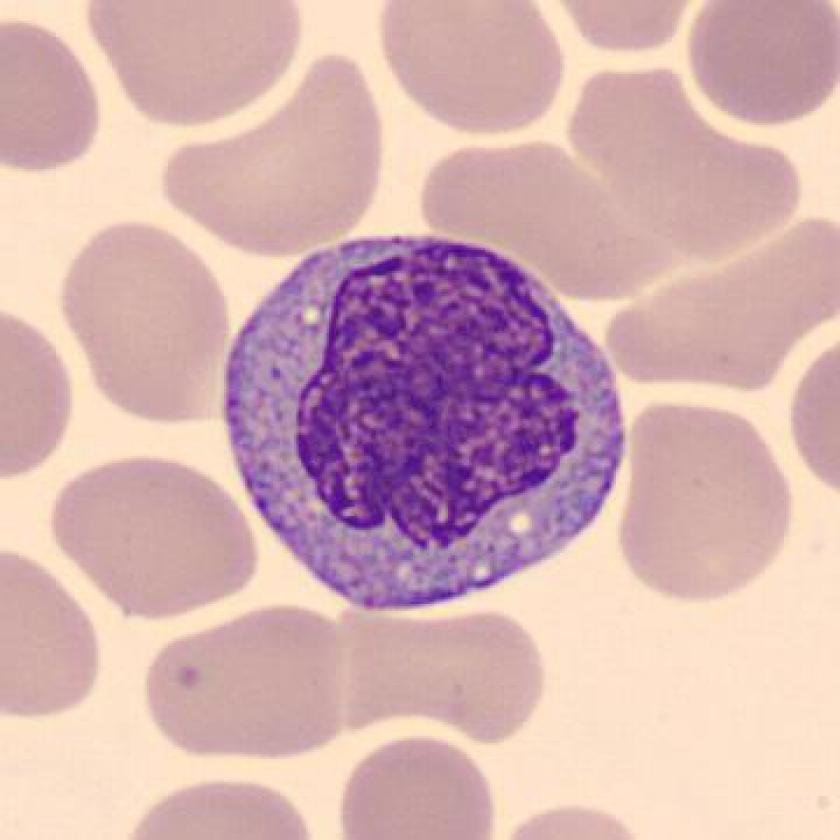monocyte: (202, 207, 645, 633)
